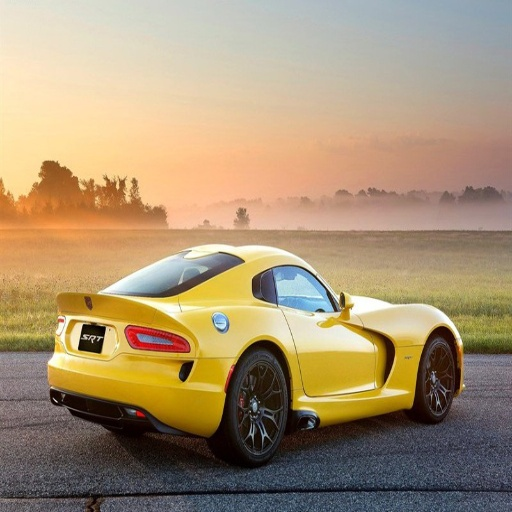back_bumper: (49, 349, 233, 433)
back_right_door: (271, 262, 315, 366)
tailgate: (63, 290, 183, 358)
trunk: (104, 297, 209, 362)
